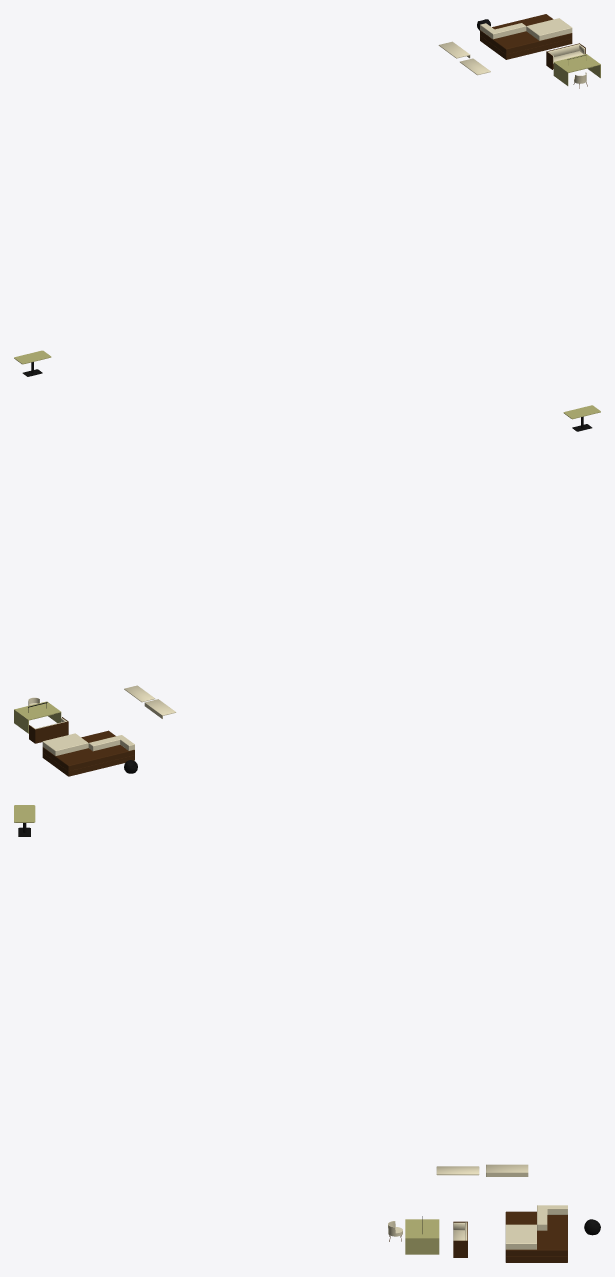
Rendered from Prop.fbx.
3 views of the same model, one above another, from view 1: azimuth 30°, elevation 25°; view 2: azimuth 210°, elevation 25°; view 3: azimuth 270°, elevation 25° (orthographic). The views are drawn at different scales.
Parts seen in each view (by area): view 1: Sofa_A, Desk_A, Sofa_B; view 2: Sofa_A, Desk_A, Sofa_B; view 3: Sofa_A, Desk_A.
Boxes of the visible parts, left/top/right/bottom form: Sofa_A: left=480, top=14, right=572, bottom=59; Desk_A: left=553, top=54, right=600, bottom=85; Sofa_B: left=546, top=43, right=585, bottom=69; Sofa_A: left=42, top=730, right=134, bottom=776; Desk_A: left=14, top=701, right=61, bottom=733; Sofa_B: left=29, top=717, right=68, bottom=743; Sofa_A: left=505, top=1205, right=567, bottom=1262; Desk_A: left=405, top=1216, right=439, bottom=1254.
Bounding box in the file's own units: 36.61 × 1.03 × 20.7.
